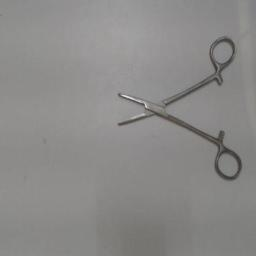Mayo Needle Holder: (113, 32, 243, 182)
